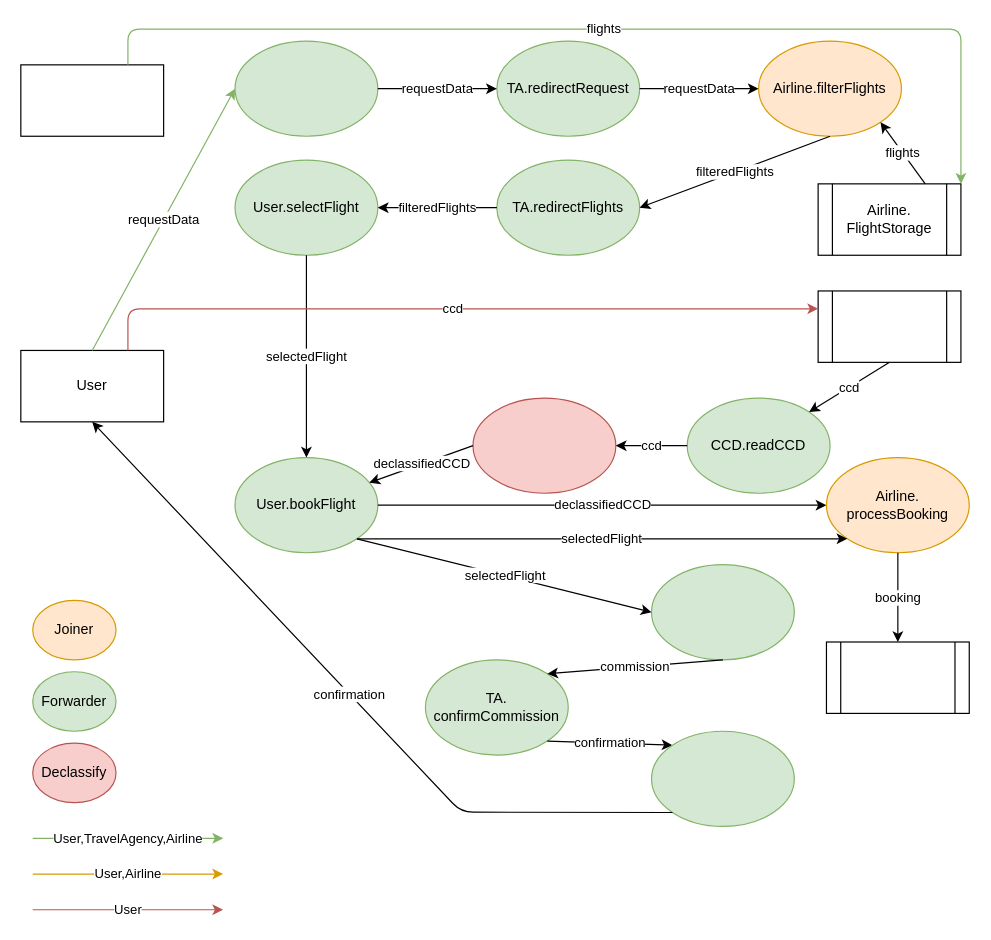
This 991x940 diagram has some shape labels left out. The box of each missing label's shape, as (x1, y1, x2, y2) in pixels:
Airline. BookingStorage: (825, 641, 969, 713)
Airline. confirmBooking: (650, 730, 794, 826)
Airline. sendCommission: (650, 563, 794, 660)
CCD. CCDStorage: (817, 290, 961, 362)
CCD.declassifyCCD: (472, 397, 616, 493)
FlightPlanner: (20, 64, 164, 136)
User. dispatchRequest: (234, 40, 378, 136)
